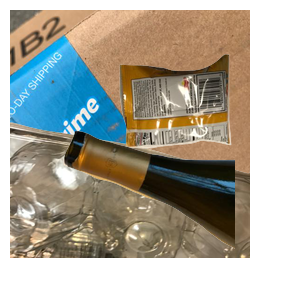cardboard: (10, 10, 250, 190)
glass: (60, 128, 300, 300)
plastic: (10, 120, 250, 300)
trash: (117, 52, 300, 193)
